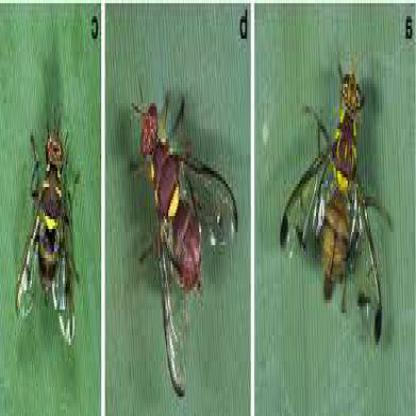fruit fly: (275, 74, 386, 351), (140, 104, 240, 407), (12, 113, 76, 353)
